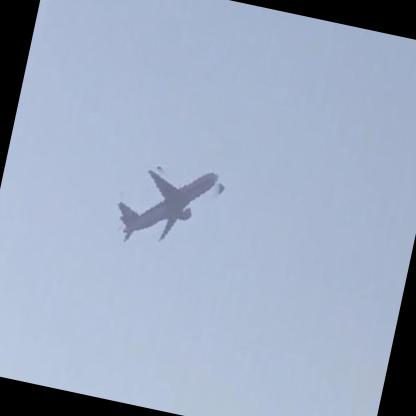plane: (106, 153, 231, 258)
